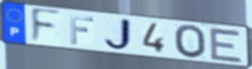4: (141, 22, 168, 54)
E: (207, 26, 245, 65)
F: (30, 7, 62, 45), (68, 14, 96, 46)
J: (102, 17, 136, 52)
O: (173, 24, 208, 60)
